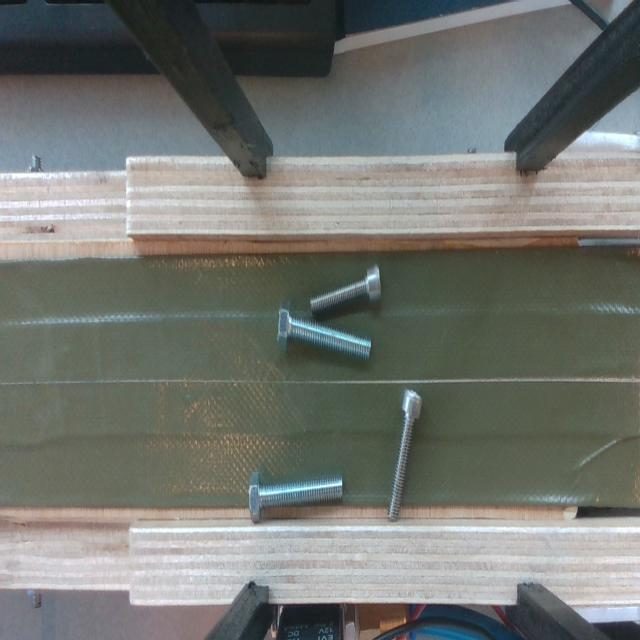Bolt: (269, 305, 379, 378), (380, 383, 431, 525), (242, 466, 353, 527), (302, 260, 387, 327)
